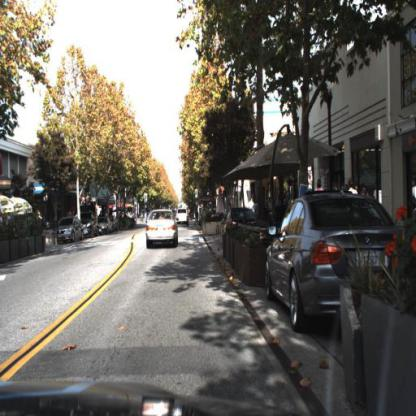car: (265, 192, 402, 330), (141, 206, 181, 252), (223, 207, 256, 235), (60, 216, 85, 243), (82, 212, 98, 239), (175, 206, 190, 227)
pedestrian: (259, 205, 271, 230), (313, 179, 328, 197), (347, 180, 359, 197), (37, 207, 45, 223)
